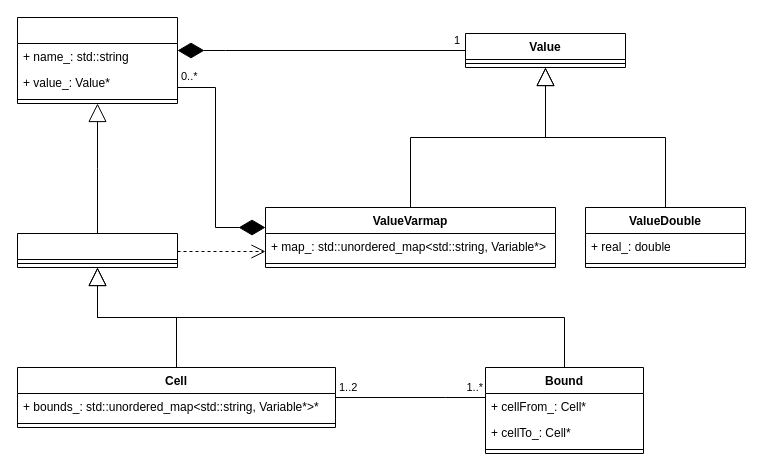
The diagram is 763 pixels wide and 471 high, and some of its shapes have lost their labels. Here are the shapes that lost their labels. From the top down, the box of each, then its label:
(16, 16, 178, 104): Variable
(16, 232, 178, 268): Holon
